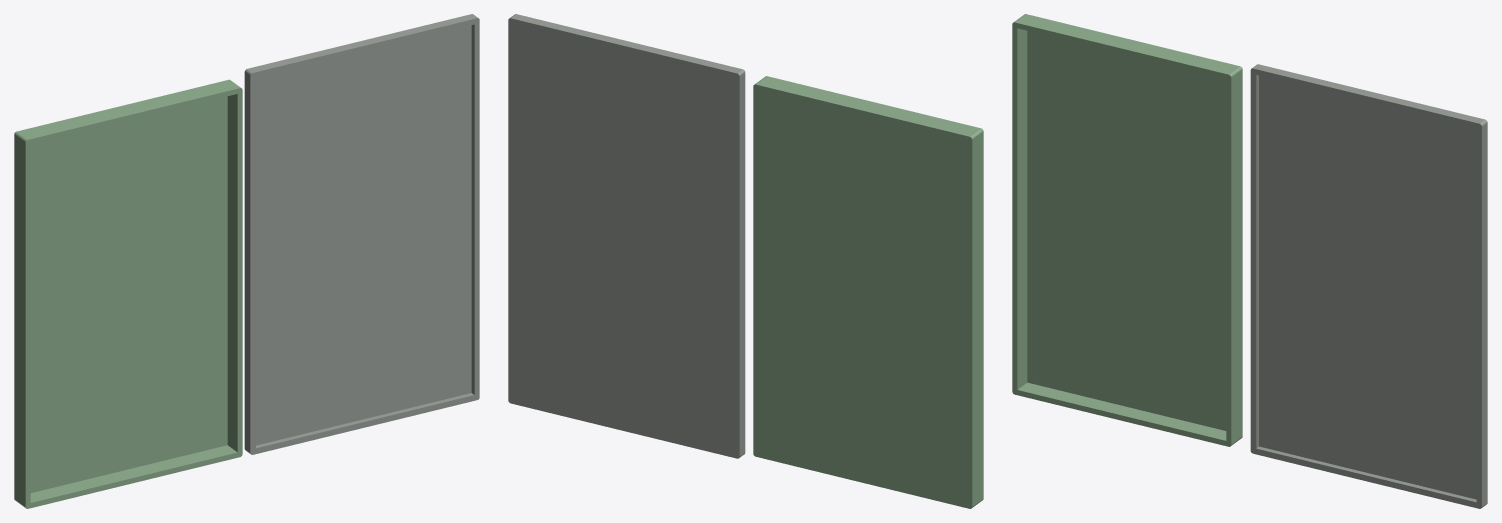
The model's file is solid_PSA_protectors.glb.
3 renders of one model, left to right at view 1: azimuth 30°, elevation 25°; view 2: azimuth 150°, elevation 25°; view 3: azimuth 330°, elevation 25°, orthographic.
Parts seen in each view (by area): view 1: Lid\Solid, Bottom\Solid; view 2: Lid\Solid, Bottom\Solid; view 3: Lid\Solid, Bottom\Solid.
Boxes of the visible parts, x1,y1,x2,y2 form: Lid\Solid: [244, 14, 479, 454]; Bottom\Solid: [14, 79, 242, 508]; Lid\Solid: [508, 14, 745, 458]; Bottom\Solid: [753, 76, 983, 508]; Lid\Solid: [1250, 64, 1487, 508]; Bottom\Solid: [1012, 14, 1242, 446].
Size of the model in its own units: 186 by 148 by 8.
